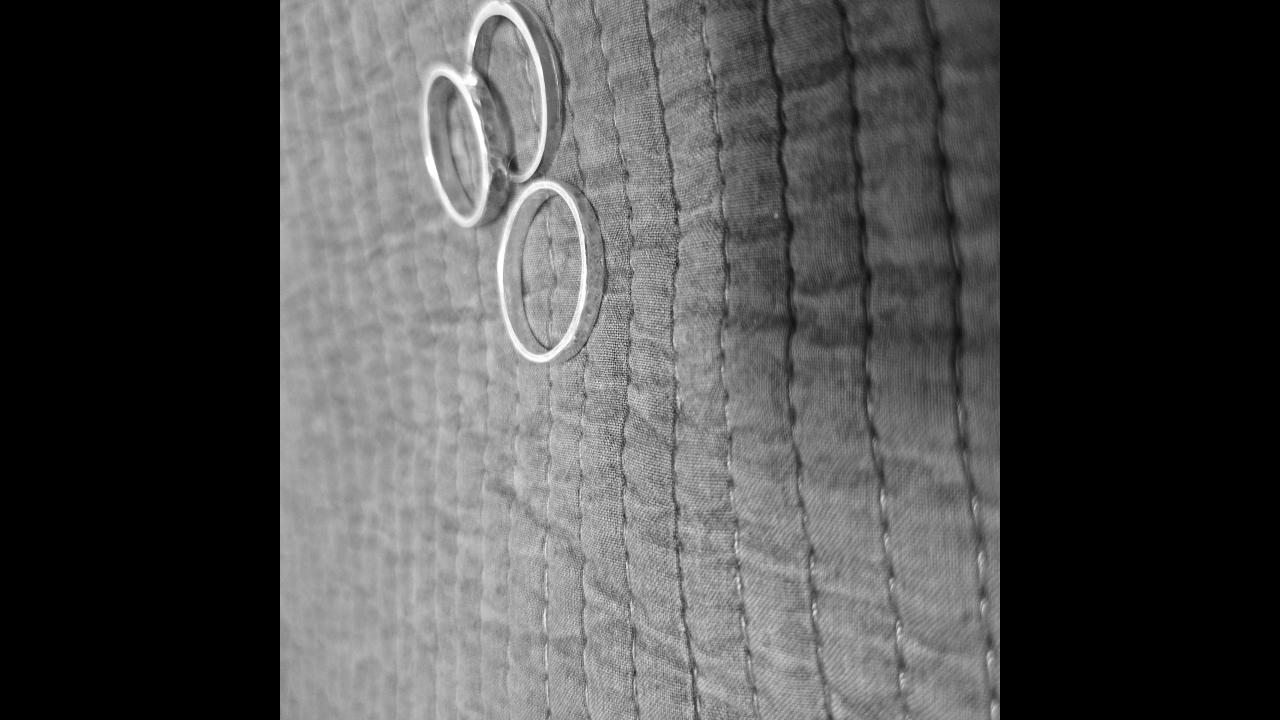ring: (498, 174, 604, 362), (465, 0, 563, 186), (420, 59, 513, 231)
